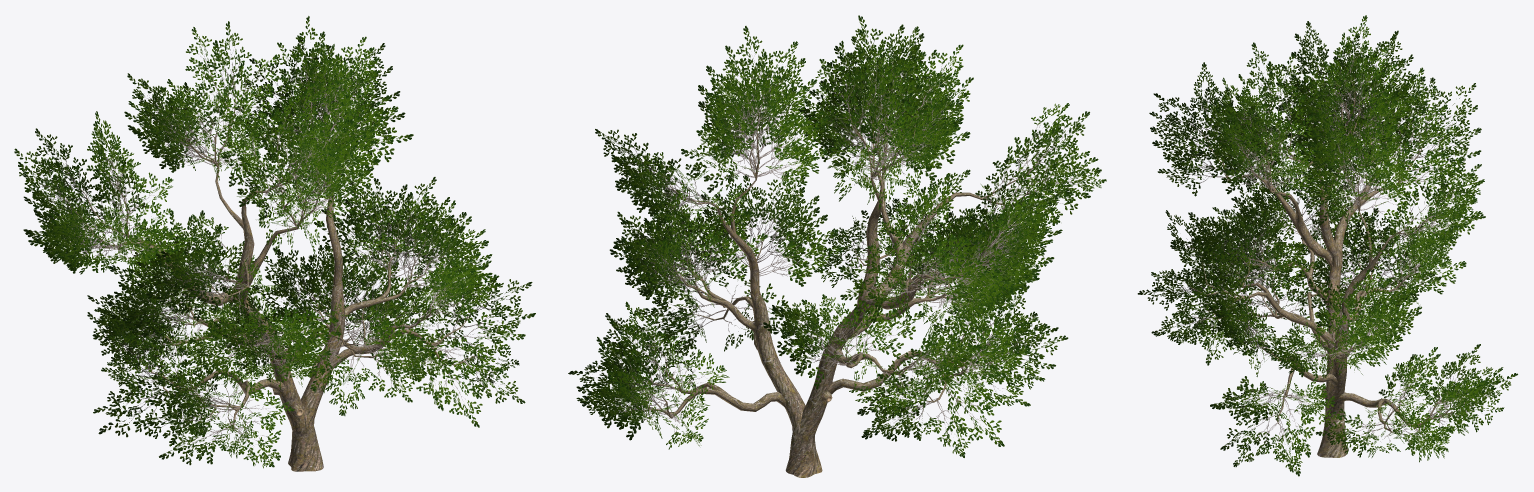
The model's file is Oakforty.obj.
3 views of the same model, side by side, from view 1: azimuth 30°, elevation 25°; view 2: azimuth 150°, elevation 25°; view 3: azimuth 270°, elevation 25° (orthographic). The views are drawn at different scales.
Parts seen in each view (by area): view 1: oak leaf, mossybark02; view 2: oak leaf, mossybark02; view 3: oak leaf, mossybark02.
Part boxes in pixels (x1,y1,x2,y2): oak leaf: [14, 16, 535, 468]; mossybark02: [64, 86, 474, 471]; oak leaf: [568, 15, 1106, 457]; mossybark02: [639, 89, 1046, 477]; oak leaf: [1137, 15, 1517, 476]; mossybark02: [1189, 75, 1464, 457].
Size of the model in its own units: 1002 by 948 by 828.
3 materials, 3 textured.
